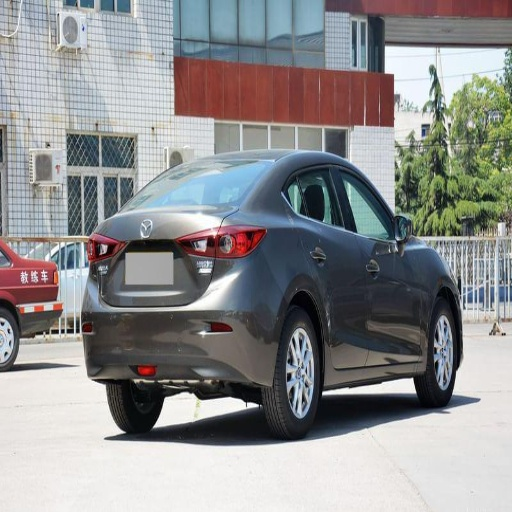_background_: (80, 256, 282, 384)
back_bumper: (126, 161, 275, 209)
back_left_light: (297, 163, 369, 372)
back_right_door: (217, 229, 264, 260)
front_left_light: (340, 164, 424, 367)
right_mirror: (91, 208, 233, 306)
trunk: (265, 308, 320, 438), (417, 299, 457, 407), (106, 382, 163, 437), (0, 310, 18, 366)
